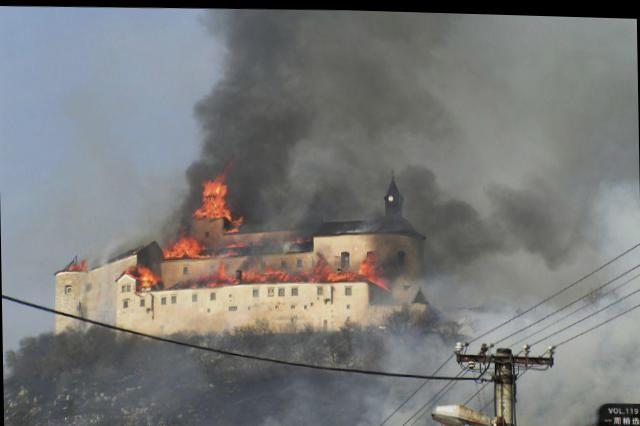fire: (195, 175, 228, 213), (162, 235, 198, 256), (356, 254, 376, 276), (138, 263, 154, 285), (331, 267, 355, 277), (214, 258, 226, 277), (226, 215, 242, 229), (241, 269, 265, 278), (69, 259, 85, 267), (277, 267, 291, 276)
